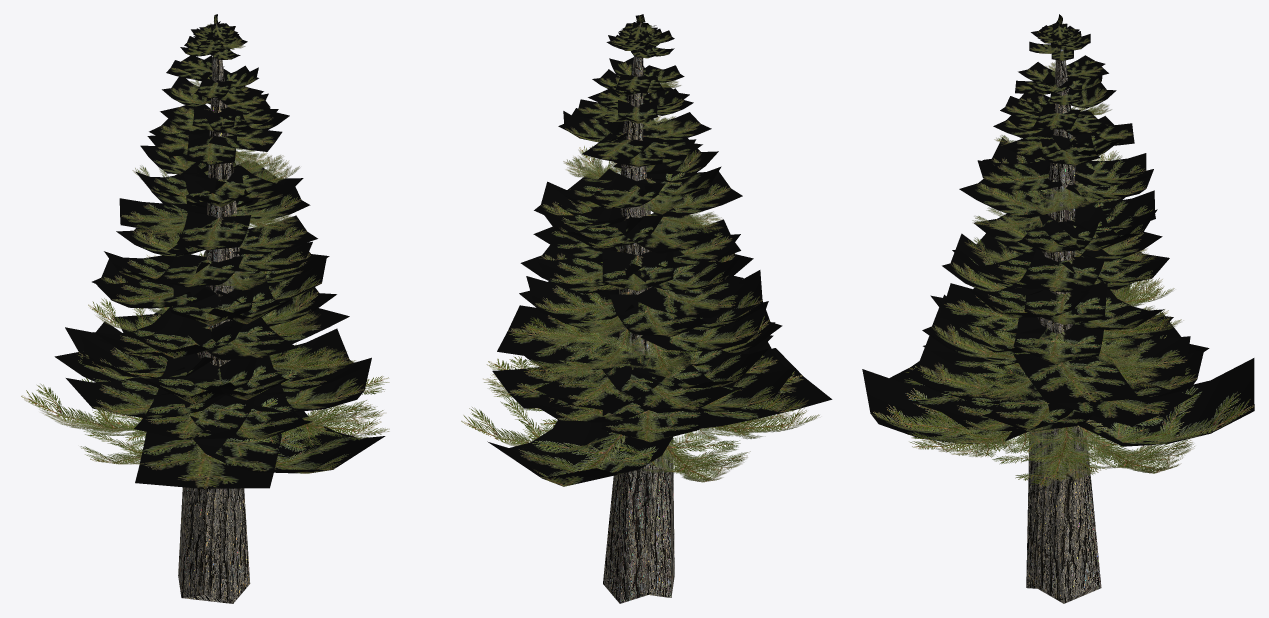
Rendered from smallpinetree.gltf.
3 views of the same model, side by side, from view 1: azimuth 30°, elevation 25°; view 2: azimuth 150°, elevation 25°; view 3: azimuth 270°, elevation 25° (orthographic).
Parts seen in each view (by area): view 1: Cube, branch1.006, branch1.002, branch1.014, branch1.011, branch1.013, branch1.005, branch1.009, branch1.026, branch1.022, branch1.010, branch1.007 (+42 smaller); view 2: Cube, branch1, branch1.017, branch1.007, branch1.016, branch1.023, branch1.027, branch1.035, branch1.006, branch1.019, branch1.036, branch1.039 (+42 smaller); view 3: Cube, branch1, branch1.002, branch1.017, branch1.001, branch1.004, branch1.025, branch1.016, branch1.005, branch1.012, branch1.010, branch1.041 (+46 smaller).
Part boxes in pixels (box(x1,y1,x2,y2)): Cube: box(178, 23, 250, 603); branch1.006: box(135, 432, 281, 488); branch1.002: box(193, 411, 385, 473); branch1.014: box(134, 388, 256, 439); branch1.011: box(66, 377, 225, 418); branch1.013: box(228, 357, 371, 412); branch1.005: box(264, 400, 389, 447); branch1.009: box(260, 328, 361, 395); branch1.026: box(183, 317, 298, 360); branch1.022: box(143, 353, 256, 404); branch1.010: box(183, 383, 311, 439); branch1.007: box(21, 378, 146, 436); Cube: box(603, 22, 674, 603); branch1: box(487, 420, 672, 486); branch1.017: box(497, 305, 622, 364); branch1.007: box(615, 431, 750, 482); branch1.016: box(535, 358, 673, 411); branch1.023: box(602, 351, 734, 413); branch1.027: box(641, 301, 768, 351); branch1.035: box(632, 281, 755, 318); branch1.006: box(700, 348, 832, 428); branch1.019: box(625, 348, 768, 388); branch1.036: box(526, 276, 633, 320); branch1.039: box(609, 290, 706, 336); Cube: box(1026, 24, 1101, 603); branch1: box(1079, 358, 1254, 446); branch1.002: box(862, 369, 1027, 443); branch1.017: box(1013, 351, 1139, 402); branch1.001: box(992, 426, 1116, 487); branch1.004: box(1058, 422, 1194, 473); branch1.025: box(1013, 317, 1103, 363); branch1.016: box(1101, 336, 1190, 377); branch1.005: box(907, 413, 1054, 457); branch1.012: box(1040, 378, 1193, 426); branch1.010: box(904, 336, 1035, 404); branch1.041: box(1019, 249, 1105, 292).
Bounding box in the file's own units: 4.46 × 7.18 × 4.46.
Materials: 3 (3 with a texture image).
